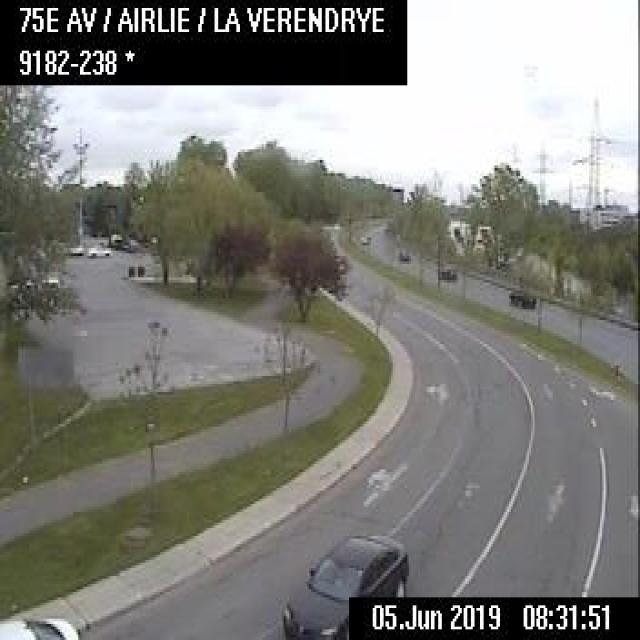vehicle: (273, 528, 409, 637), (0, 608, 80, 637), (506, 286, 534, 310), (86, 242, 111, 256), (438, 261, 456, 280), (396, 248, 411, 264)
